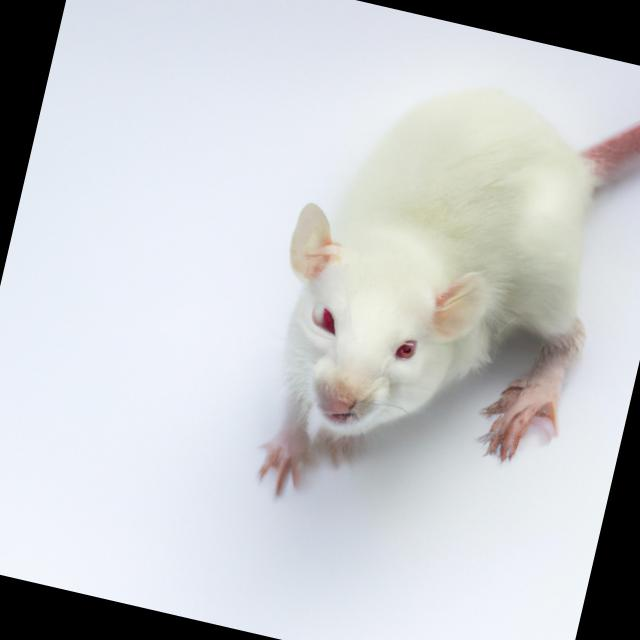rodents: (223, 33, 640, 544)
